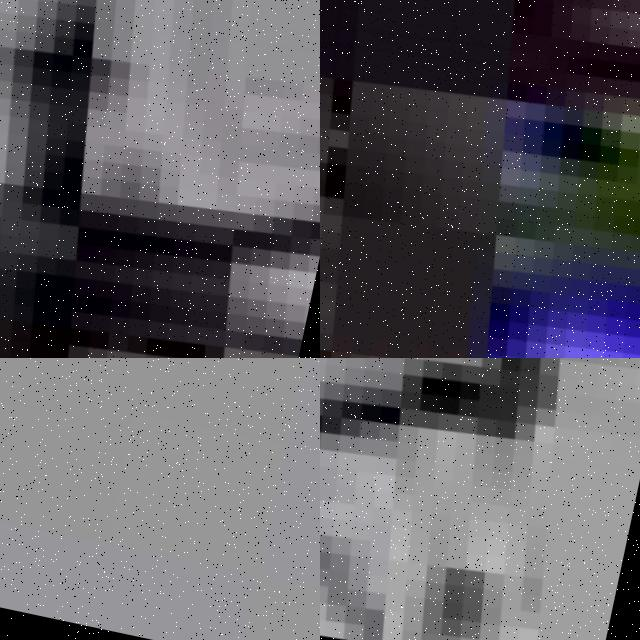drone: (0, 0, 320, 358), (320, 0, 640, 358), (320, 358, 640, 640)
